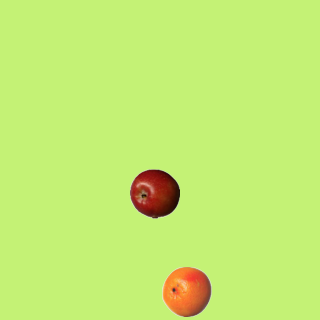Apple Braeburn: (129, 168, 179, 218)
Grapefruit Pink: (161, 266, 211, 316)
